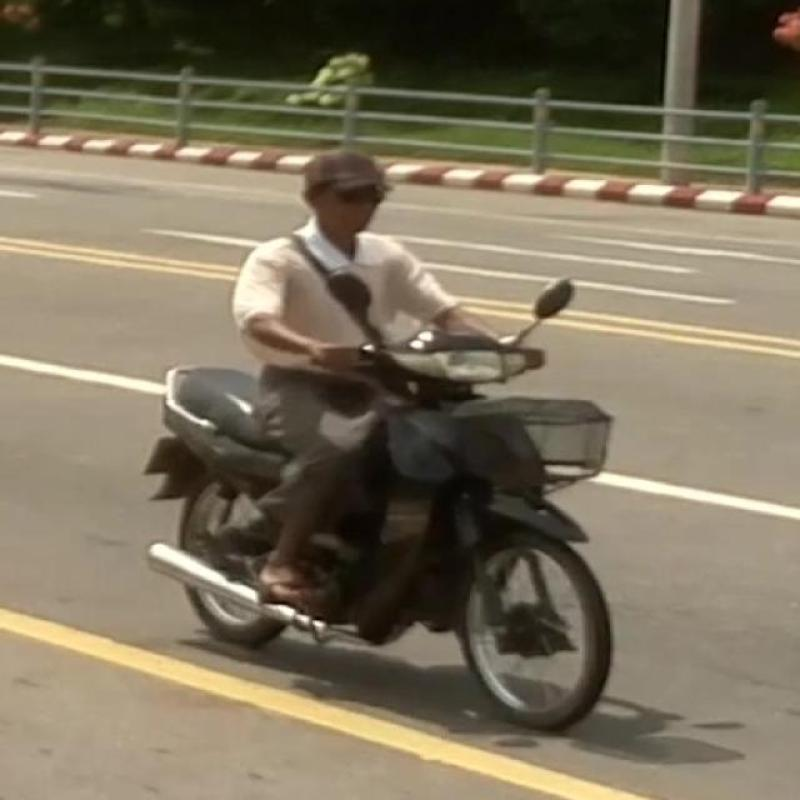nohelmet: (278, 122, 397, 237)
